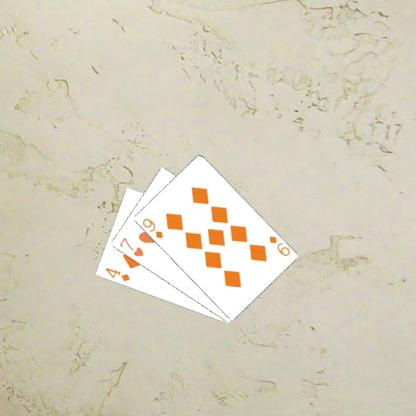4D: (102, 265, 132, 283)
7H: (116, 234, 145, 258)
9D: (266, 233, 291, 258), (139, 216, 164, 240)
